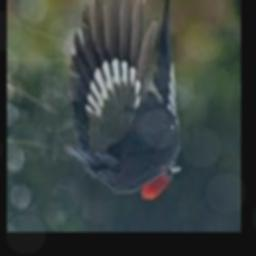Woodpecker: (63, 0, 181, 201)
